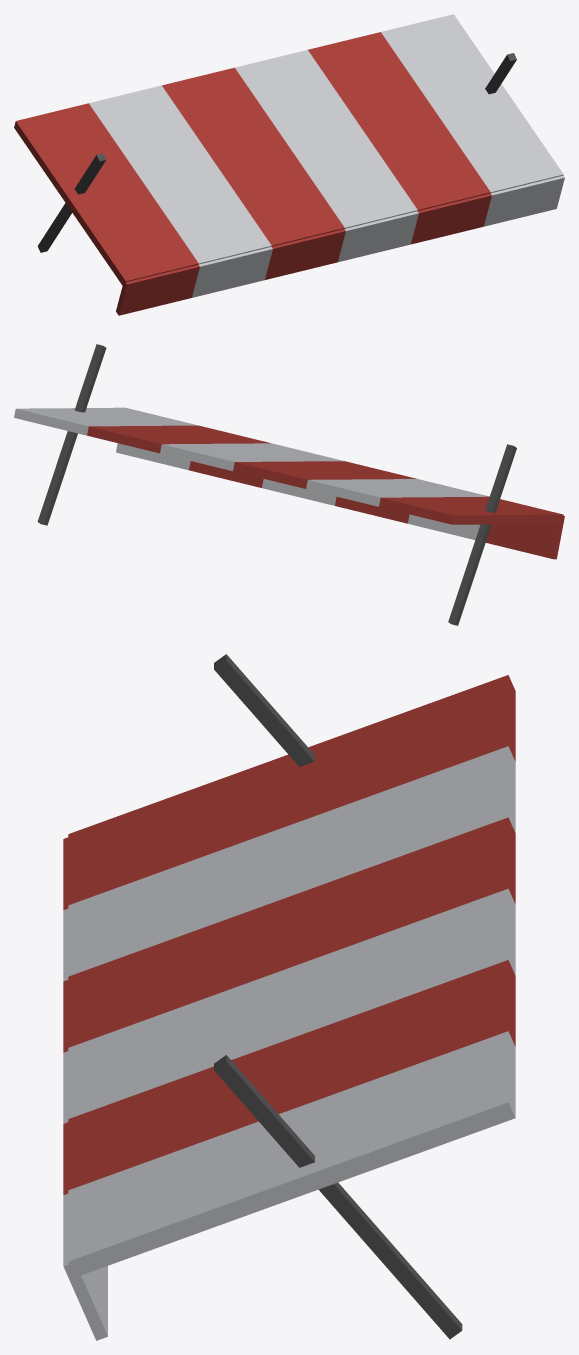
Rendered from awning_red.glb.
3 views of the same model, one above another, from view 1: azimuth 30°, elevation 25°; view 2: azimuth 150°, elevation 25°; view 3: azimuth 270°, elevation 25° (orthographic). The views are drawn at different scales.
Visible parts, largest first — view 1: awning_red; view 2: awning_red; view 3: awning_red.
Part boxes in pixels (x1=…): awning_red: x1=14, y1=14, x2=564, y2=315; awning_red: x1=14, y1=344, x2=564, y2=625; awning_red: x1=63, y1=654, x2=515, y2=1340.
Size of the model in its own units: 3.2 by 0.9711 by 1.43.
